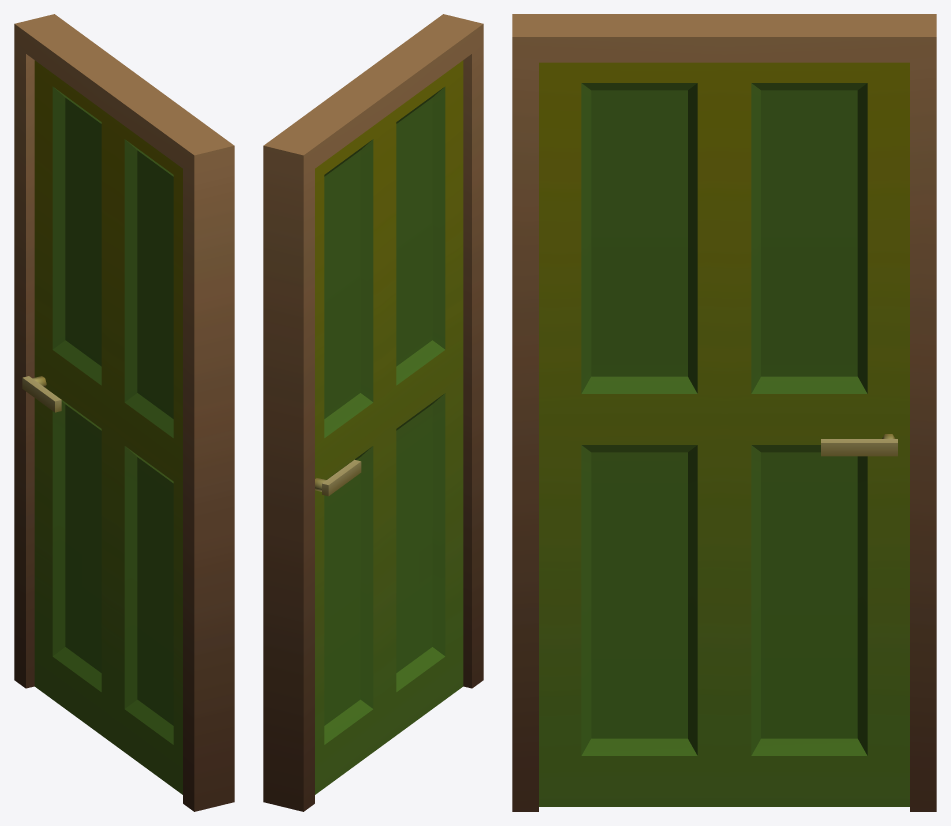
Rendered from Door.FBX.
The picture shows the model from 3 angles, left to right: view 1: azimuth 30°, elevation 25°; view 2: azimuth 150°, elevation 25°; view 3: azimuth 270°, elevation 25°; orthographic projection. The views are drawn at different scales.
Visible parts, largest first — view 1: Door; view 2: Door; view 3: Door.
Boxes of the visible parts, box(x1,y1,x2,y2) form: Door: box(14, 14, 234, 811); Door: box(263, 14, 483, 811); Door: box(512, 14, 936, 811).
Bounding box in the file's own units: 6.54 × 71.64 × 35.58.
Materials: 1 (1 with a texture image).
